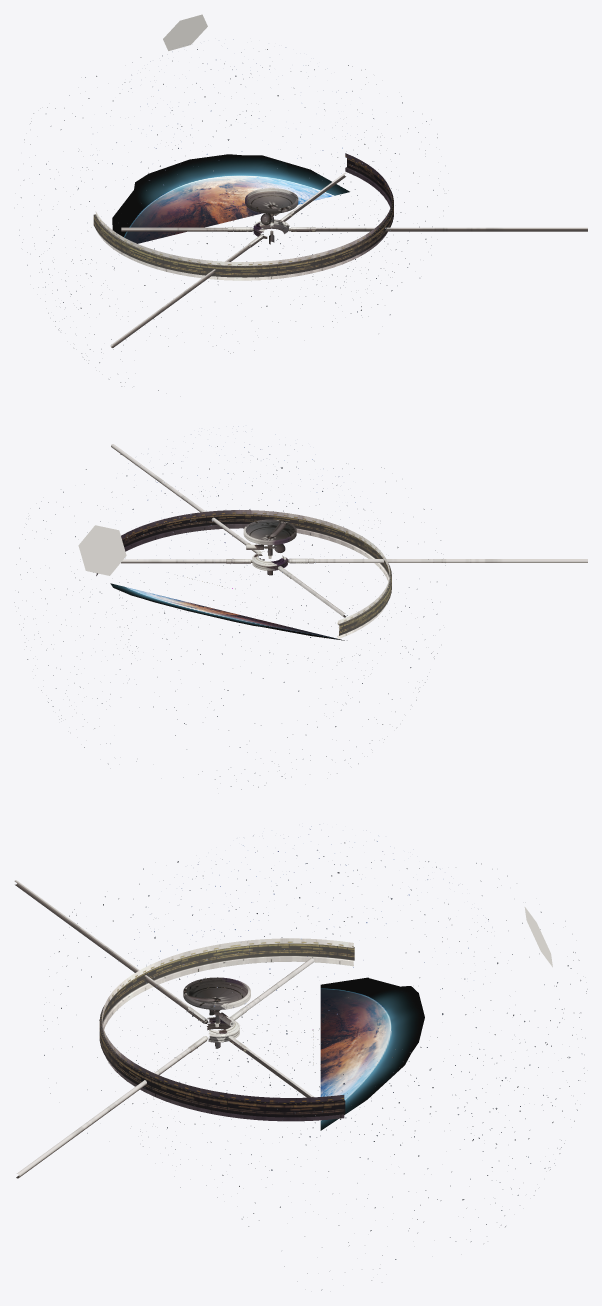
File: spacestation.glb
3 views of the same model, one above another, from view 1: azimuth 30°, elevation 25°; view 2: azimuth 150°, elevation 25°; view 3: azimuth 270°, elevation 25° (orthographic). The views are drawn at different scales.
Bounding box in the file's own units: 12240 × 7300 × 10073.
Materials: 14 (13 with a texture image).
